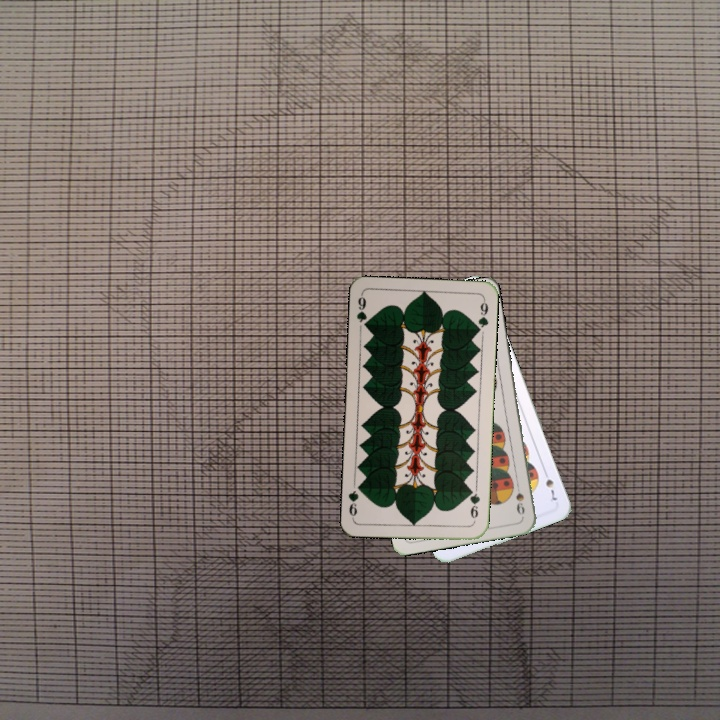G9: (352, 291, 371, 332), (466, 484, 482, 521)
S7: (540, 466, 560, 505)
S9: (512, 478, 527, 517)
